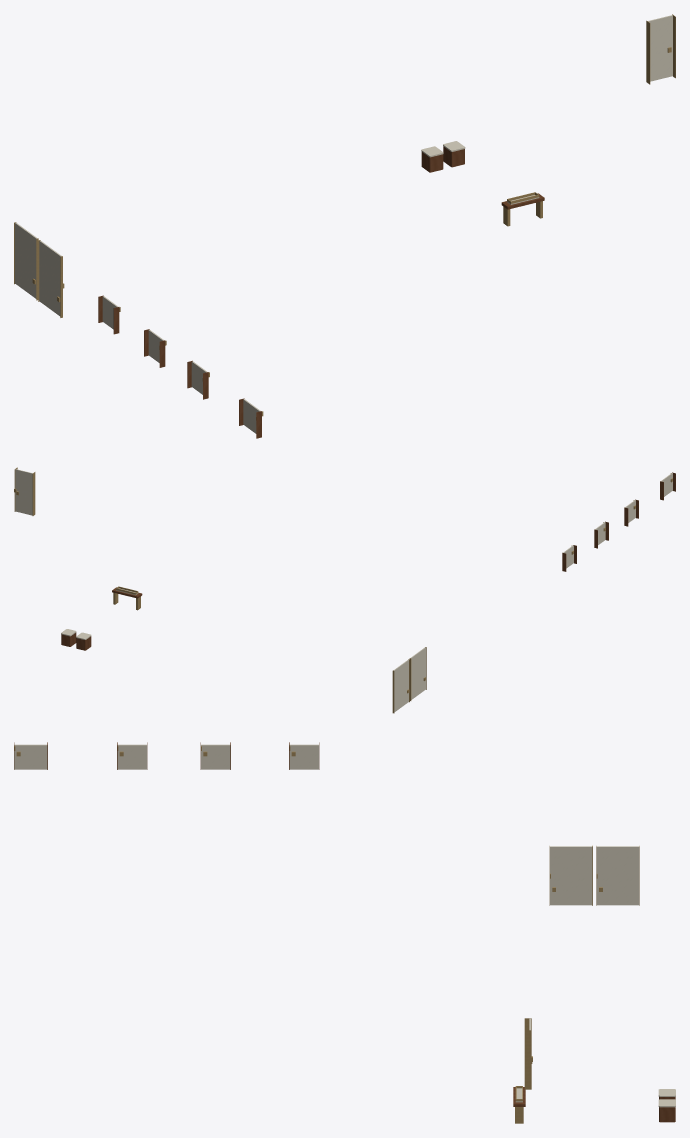
Rendered from D04_PHYSICAL_FITTINGS_r001.glb.
3 renders of one model, top to bottom at view 1: azimuth 30°, elevation 25°; view 2: azimuth 150°, elevation 25°; view 3: azimuth 270°, elevation 25°, orthographic. The views are drawn at different scales.
Parts seen in each view (by area): view 1: D04PC_CourtSouth_Leaf, D04PC_StaffUsed_Leaf, D04PC_StaffClean_Leaf; view 2: D04PC_CourtSouth_Leaf, D04PC_StaffClean_Leaf, D04PC_StaffUsed_Leaf; view 3: D04PC_StaffUsed_Leaf, D04PC_StaffClean_Leaf, D04PC_Hatch_928_1_Leaf, D04PC_Hatch_928_0_Leaf, D04PC_Hatch_952_0_Leaf, D04PC_Hatch_952_1_Leaf.
Boxes of the visible parts, x1=… form: D04PC_CourtSouth_Leaf: x1=648, y1=15, x2=672, y2=81; D04PC_StaffUsed_Leaf: x1=15, y1=222, x2=37, y2=298; D04PC_StaffClean_Leaf: x1=39, y1=240, x2=61, y2=316; D04PC_CourtSouth_Leaf: x1=15, y1=469, x2=32, y2=515; D04PC_StaffClean_Leaf: x1=410, y1=647, x2=425, y2=699; D04PC_StaffUsed_Leaf: x1=393, y1=659, x2=408, y2=712; D04PC_StaffUsed_Leaf: x1=596, y1=846, x2=639, y2=905; D04PC_StaffClean_Leaf: x1=550, y1=846, x2=592, y2=905; D04PC_Hatch_928_1_Leaf: x1=14, y1=744, x2=47, y2=769; D04PC_Hatch_928_0_Leaf: x1=117, y1=744, x2=146, y2=769; D04PC_Hatch_952_0_Leaf: x1=289, y1=744, x2=318, y2=769; D04PC_Hatch_952_1_Leaf: x1=201, y1=744, x2=230, y2=769.
Bounding box in the file's own units: 31.47 × 7.2 × 27.31.
Materials: 3 (3 with a texture image).
